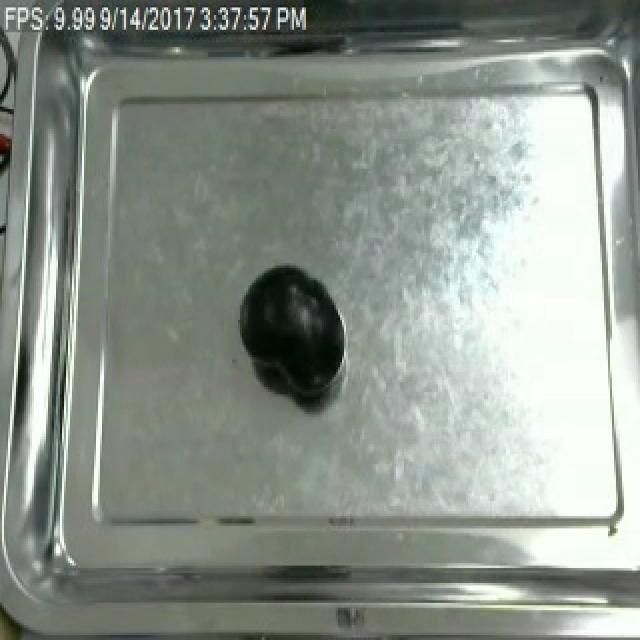Fruit: (236, 260, 348, 400)
